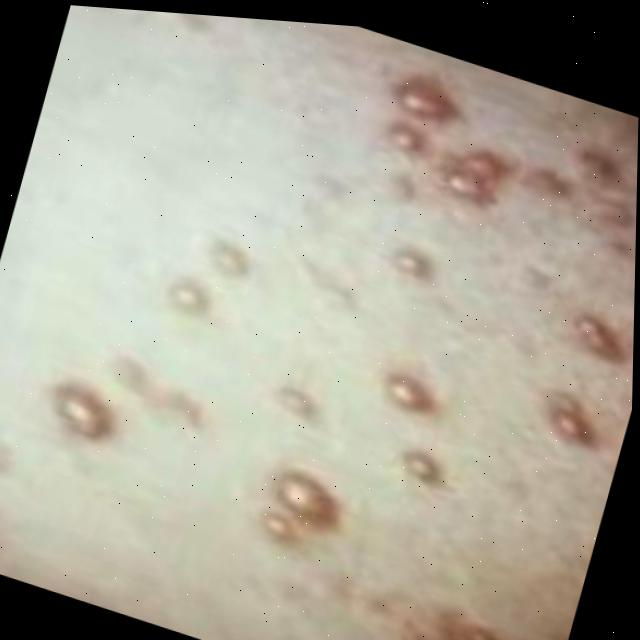Shingles: (5, 1, 640, 640)
